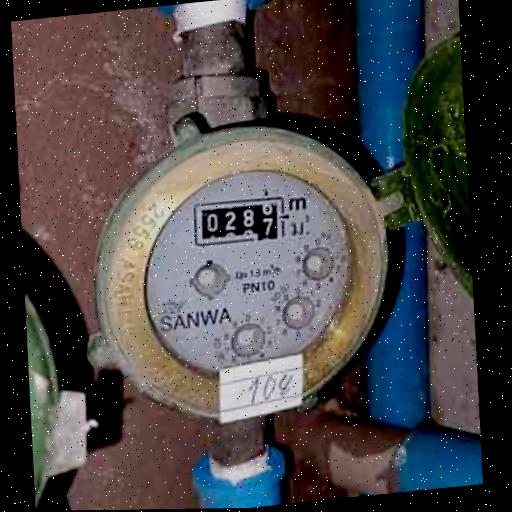0: (199, 207, 223, 238)
2: (218, 205, 241, 237)
7: (253, 202, 279, 241)
8: (238, 204, 258, 234)
border_water_meter_number: (189, 193, 287, 247)
